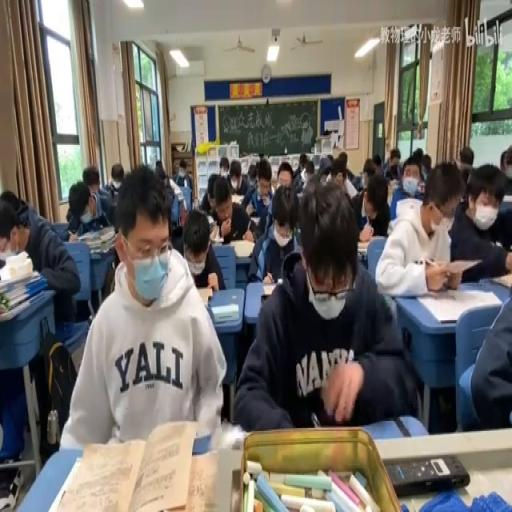calculator: (44, 420, 210, 509), (74, 232, 117, 304), (413, 289, 500, 323), (426, 256, 482, 287), (54, 320, 88, 356), (210, 300, 238, 322), (230, 238, 256, 258), (395, 196, 417, 218), (489, 270, 512, 288), (78, 226, 102, 243), (196, 286, 213, 306), (0, 248, 17, 268), (88, 244, 110, 258), (261, 282, 278, 296), (357, 238, 371, 253), (210, 233, 224, 246), (208, 218, 218, 236), (230, 193, 244, 205), (174, 188, 184, 202), (505, 192, 512, 202)
paper: (62, 169, 224, 455), (233, 176, 412, 430), (1, 189, 81, 465), (373, 160, 466, 294), (181, 206, 228, 292), (250, 196, 288, 282), (352, 165, 390, 237), (66, 178, 110, 237), (2, 189, 40, 232), (199, 168, 222, 212), (401, 154, 424, 196), (225, 156, 248, 196), (106, 162, 124, 199), (384, 145, 402, 179), (276, 159, 294, 189), (174, 158, 192, 186), (82, 165, 101, 189), (300, 158, 314, 188), (499, 146, 512, 178), (257, 162, 272, 188), (458, 145, 474, 166), (246, 162, 258, 188), (154, 158, 166, 180), (218, 156, 229, 180), (336, 150, 347, 174), (420, 154, 430, 180), (412, 146, 423, 165), (372, 154, 382, 169), (344, 168, 354, 182), (326, 152, 333, 161), (163, 174, 169, 184)
person: (386, 452, 470, 495), (312, 404, 342, 425)
